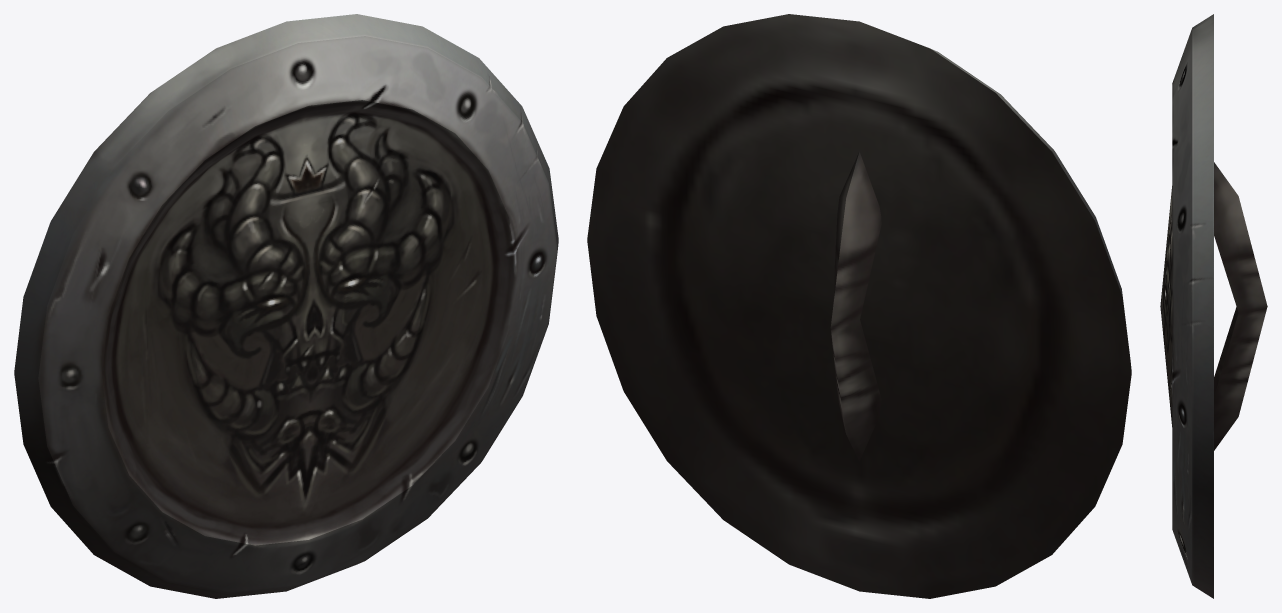
File: Shield02.fbx
3 renders of one model, left to right at view 1: azimuth 30°, elevation 25°; view 2: azimuth 150°, elevation 25°; view 3: azimuth 270°, elevation 25°, orthographic. The views are drawn at different scales.
Parts seen in each view (by area): view 1: Shield02; view 2: Shield02; view 3: Shield02.
Part boxes in pixels (x1=…): Shield02: x1=14, y1=14, x2=558, y2=598; Shield02: x1=587, y1=14, x2=1131, y2=598; Shield02: x1=1160, y1=14, x2=1267, y2=598.
Bounding box in the file's own units: 1.2 × 1.2 × 0.2196.
